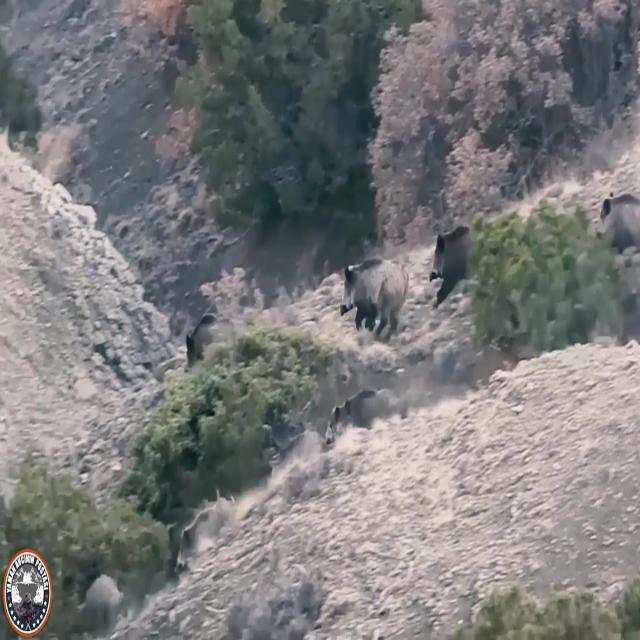pig: (325, 231, 425, 350), (425, 206, 489, 315), (592, 167, 640, 245)
